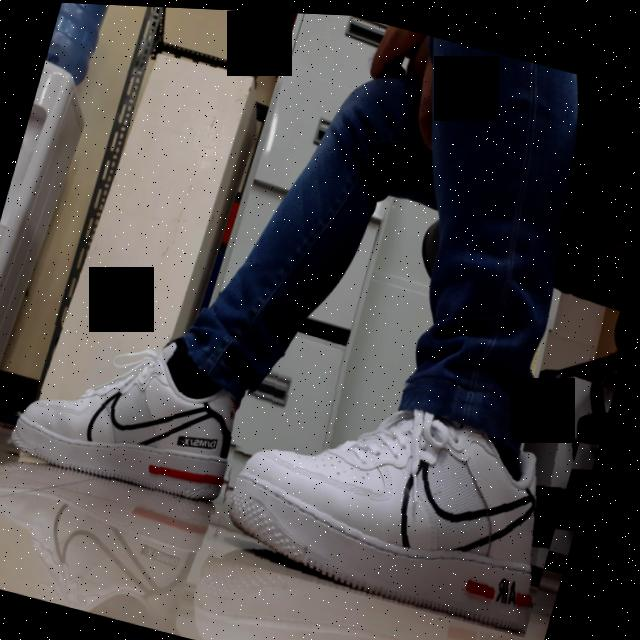shoe: (203, 330, 594, 633), (0, 285, 278, 522)
